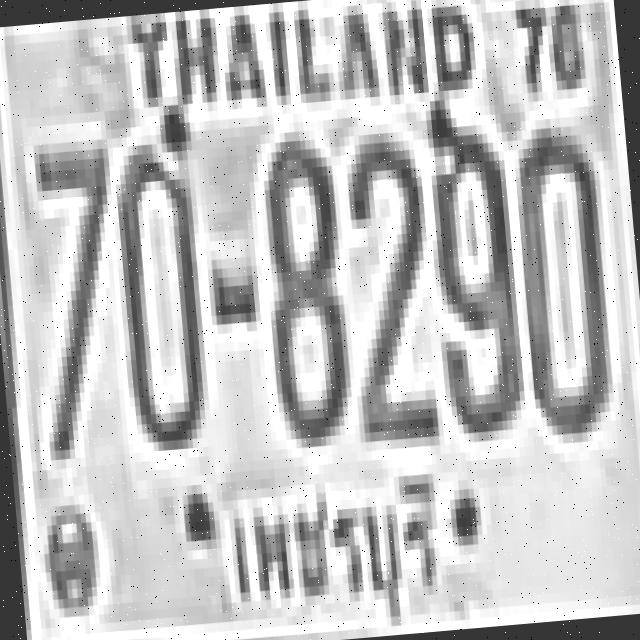0: (506, 120, 610, 432), (109, 132, 209, 443)
2: (336, 126, 436, 437)
7: (23, 138, 128, 450)
8: (250, 129, 350, 440)
9: (418, 105, 520, 435)
Phetchaburi: (212, 451, 456, 640)
